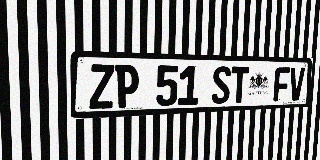1: (178, 66, 199, 105)
5: (156, 65, 178, 106)
F: (273, 67, 290, 102)
P: (115, 65, 139, 108)
S: (211, 66, 231, 104)
T: (230, 66, 249, 103)
V: (289, 67, 305, 101)
Z: (89, 64, 114, 109)
